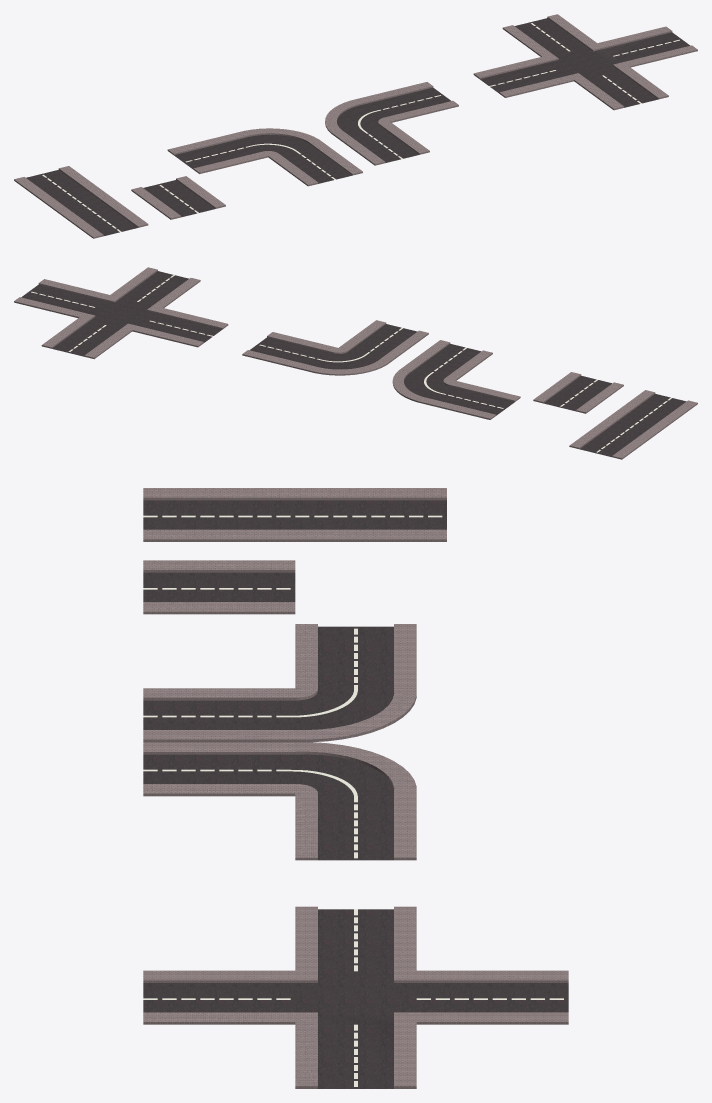
The model's file is Modular Roads.FBX.
The picture shows the model from 3 angles, top to bottom: view 1: azimuth 30°, elevation 25°; view 2: azimuth 150°, elevation 25°; view 3: azimuth 270°, elevation 25°; orthographic projection. The views are drawn at different scales.
Parts seen in each view (by area): view 1: CrossRoad, LeftTurnRoad, RightTurnRoad, StraightLongRoad, StraightRoad; view 2: CrossRoad, RightTurnRoad, LeftTurnRoad, StraightLongRoad, StraightRoad; view 3: CrossRoad, RightTurnRoad, LeftTurnRoad, StraightLongRoad, StraightRoad.
Part boxes in pixels (bbox=[...]): CrossRoad: bbox=[473, 14, 697, 110]; LeftTurnRoad: bbox=[167, 128, 362, 186]; RightTurnRoad: bbox=[325, 82, 458, 165]; StraightLongRoad: bbox=[14, 166, 148, 238]; StraightRoad: bbox=[131, 176, 225, 219]; CrossRoad: bbox=[14, 267, 228, 359]; RightTurnRoad: bbox=[242, 320, 428, 375]; LeftTurnRoad: bbox=[392, 340, 520, 419]; StraightLongRoad: bbox=[569, 390, 697, 459]; StraightRoad: bbox=[533, 372, 623, 413]; CrossRoad: bbox=[143, 906, 568, 1088]; RightTurnRoad: bbox=[143, 742, 416, 860]; LeftTurnRoad: bbox=[143, 624, 416, 742]; StraightLongRoad: bbox=[143, 488, 446, 541]; StraightRoad: bbox=[143, 560, 295, 614].
Size of the model in its own units: 3687 by 31.92 by 1102.
3 materials, 2 textured.
